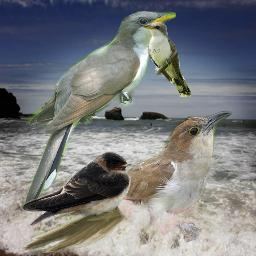Cuckoo: (20, 110, 232, 253), (23, 11, 176, 209), (143, 21, 191, 97)
Swallow: (22, 151, 133, 227)
